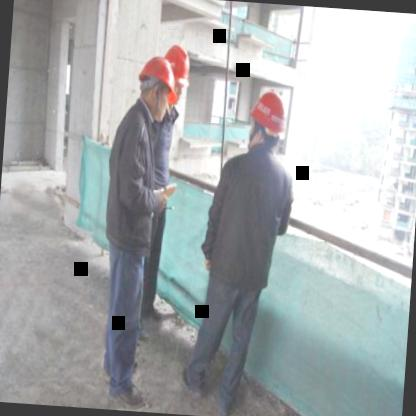helmet: (245, 88, 290, 156), (135, 56, 181, 120), (157, 40, 195, 108)
